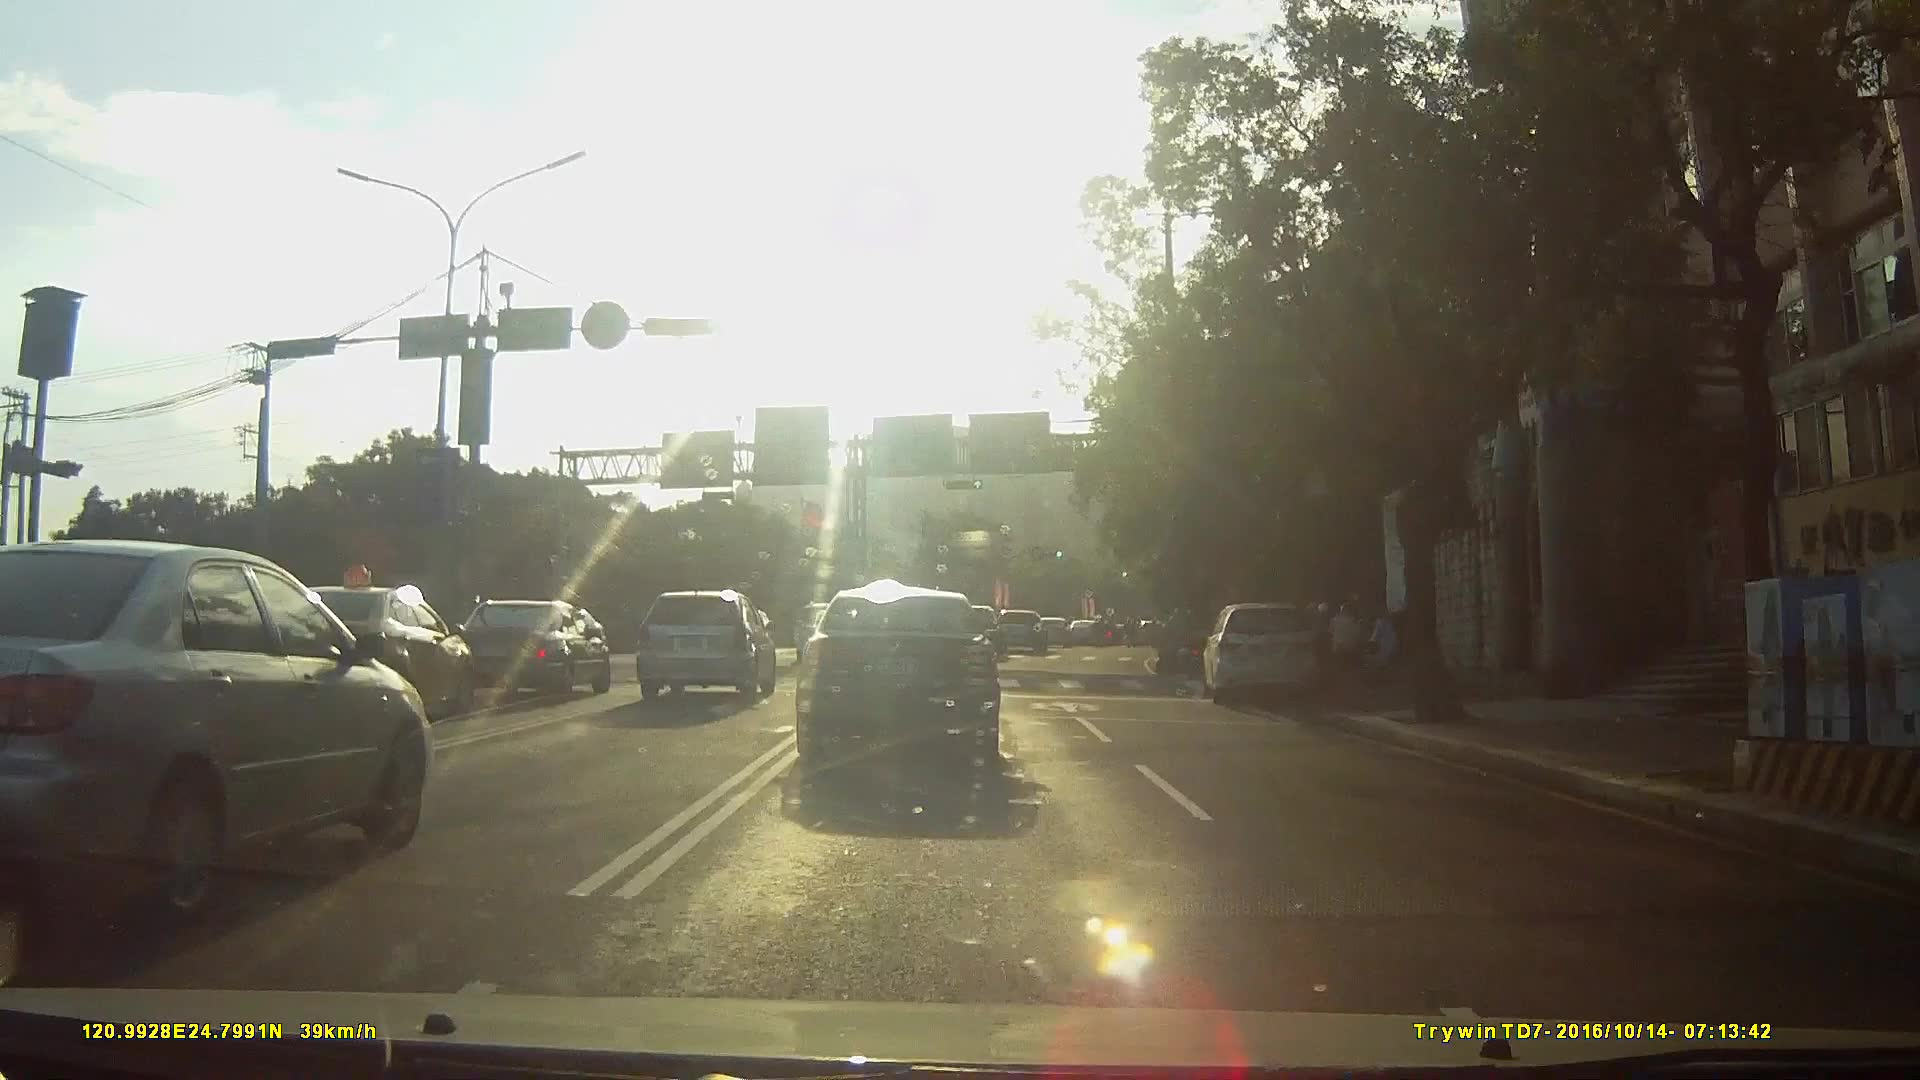pedestrian: (1328, 603, 1370, 666), (1371, 615, 1407, 681)
rider: (1157, 606, 1212, 682)
vehicle: (0, 537, 436, 926), (797, 594, 1024, 792), (232, 582, 453, 719), (432, 598, 612, 704), (634, 587, 778, 704), (1196, 600, 1339, 709), (948, 602, 1010, 660), (996, 609, 1054, 655), (1042, 614, 1081, 646), (1071, 616, 1110, 644)
